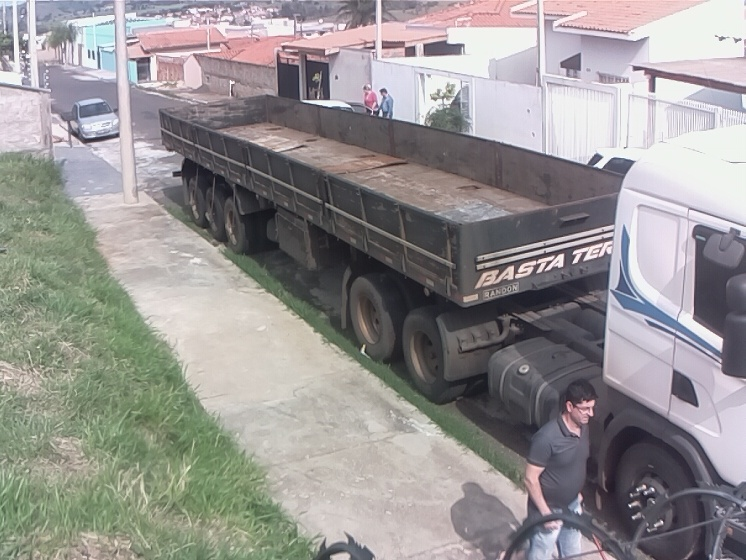person: (520, 378, 597, 560), (362, 83, 379, 118), (379, 88, 396, 121)
